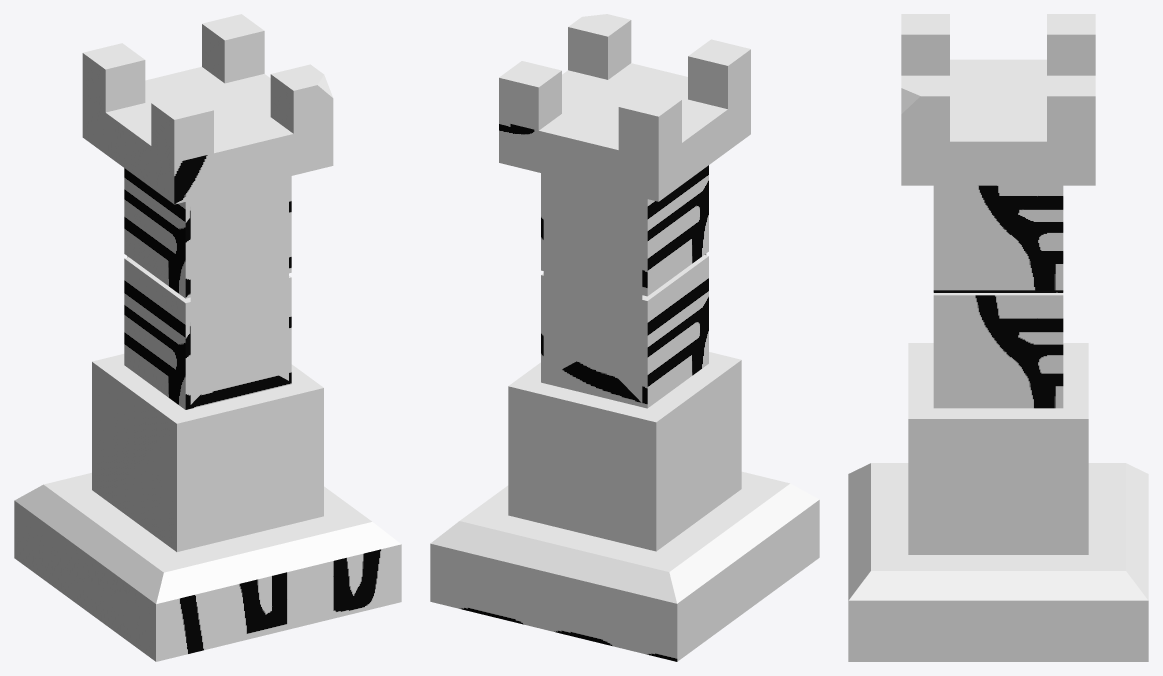
The model's file is Stone Rook.fbx.
3 views of the same model, side by side, from view 1: azimuth 30°, elevation 25°; view 2: azimuth 150°, elevation 25°; view 3: azimuth 270°, elevation 25° (orthographic). The views are drawn at different scales.
Parts seen in each view (by area): view 1: Stone_Rook; view 2: Stone_Rook; view 3: Stone_Rook.
Boxes of the visible parts, <box> form: Stone_Rook: <box>14,14,401,661</box>; Stone_Rook: <box>430,14,819,661</box>; Stone_Rook: <box>848,14,1148,661</box>.
Size of the model in its own units: 1 by 2 by 1.
